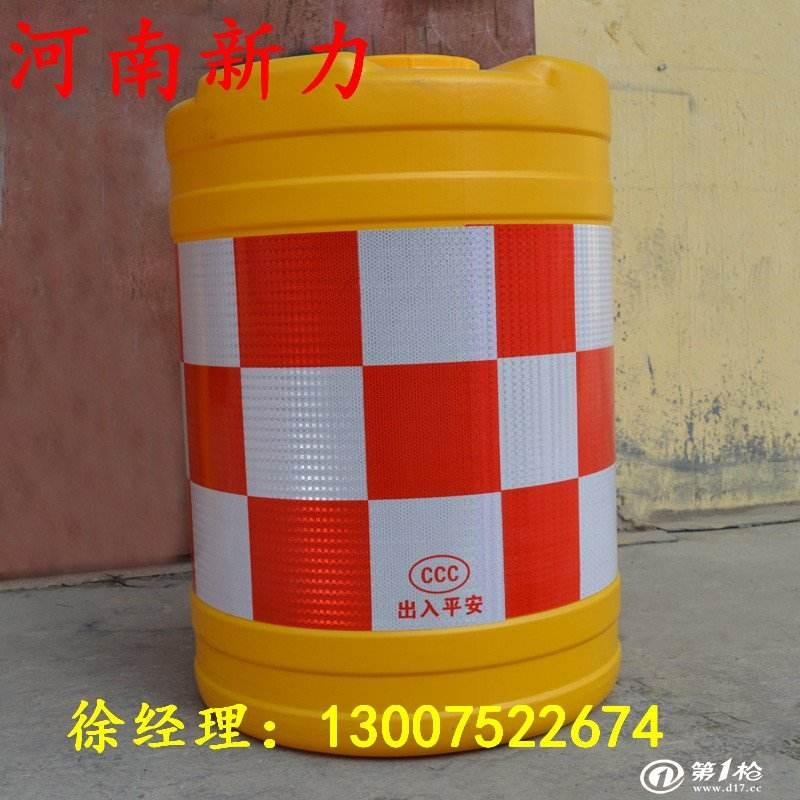sign: (154, 44, 643, 749)
